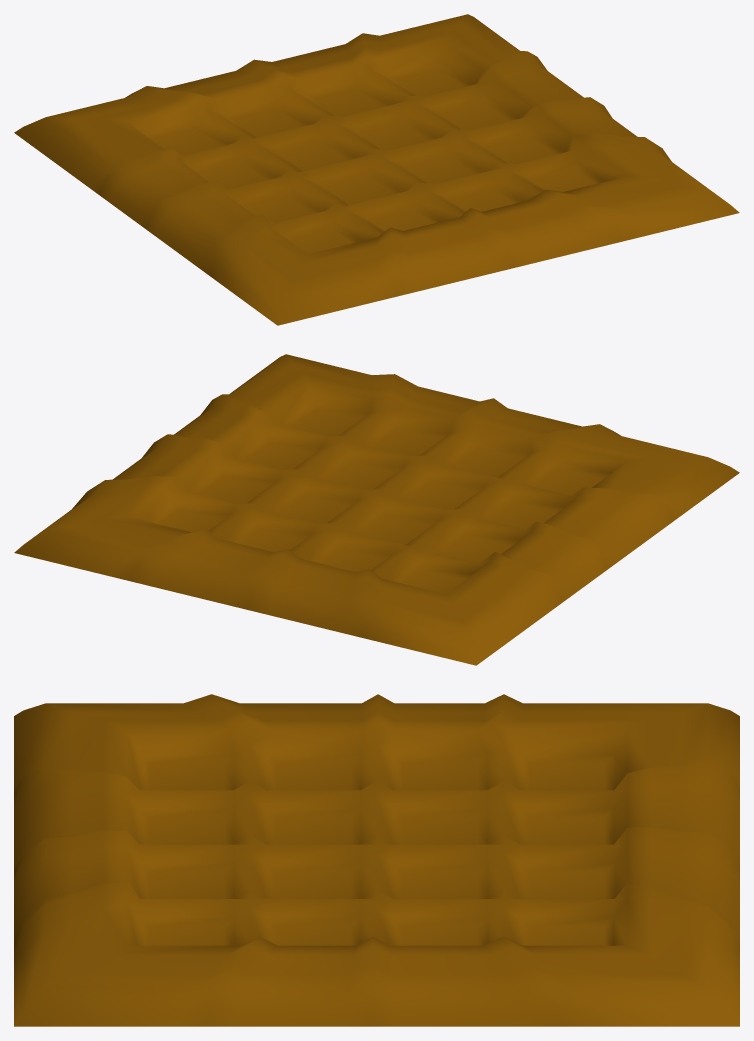
Rendered from spikesHidden.fbx.
3 views of the same model, one above another, from view 1: azimuth 30°, elevation 25°; view 2: azimuth 150°, elevation 25°; view 3: azimuth 270°, elevation 25° (orthographic). The views are drawn at different scales.
Parts seen in each view (by area): view 1: spikesHidden; view 2: spikesHidden; view 3: spikesHidden.
Part boxes in pixels (x1,y1,x2,y2): spikesHidden: (14, 14, 739, 325); spikesHidden: (14, 354, 739, 665); spikesHidden: (14, 694, 739, 1026).
Bounding box in the file's own units: 83.16 × 5.3 × 82.13.
